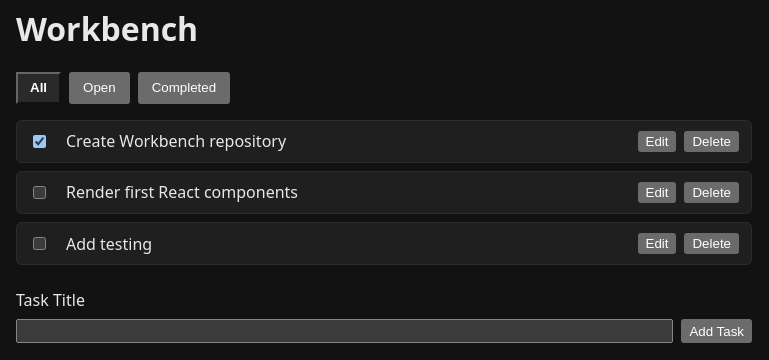
Test case: deletes an existing task when the user clicks its delete button
What coordinates should you click on to do the following:
click the button with aria-label "delete create Workbench repository"
I would click on:
 (712, 141)
Its box is [684, 131, 739, 152].
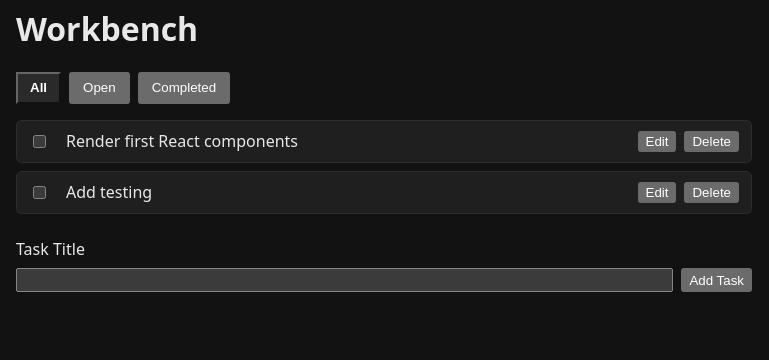
Expected: the text "Create Workbench repository" is gone
